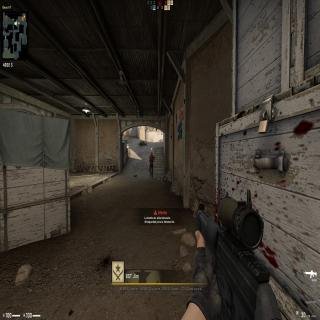T-Head: (151, 152, 153, 156)
